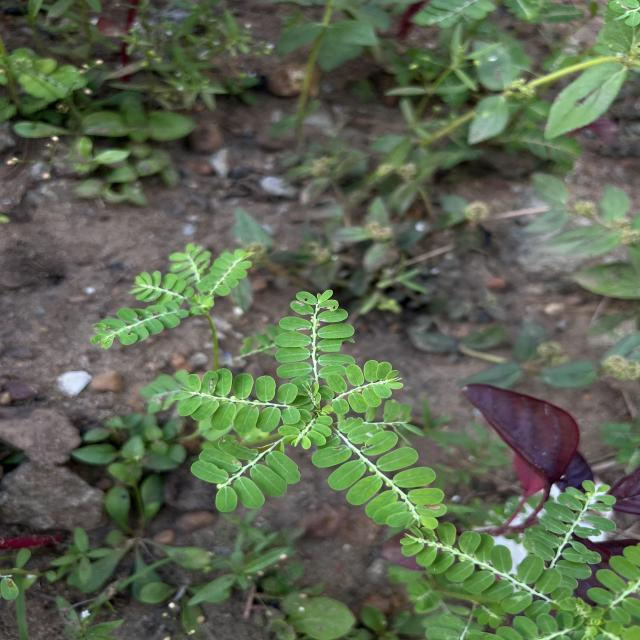Phyllanthus niruri: (383, 522, 574, 621), (309, 421, 449, 530), (521, 478, 619, 588), (180, 436, 306, 514), (168, 366, 300, 434), (272, 286, 356, 386), (324, 358, 406, 416)
